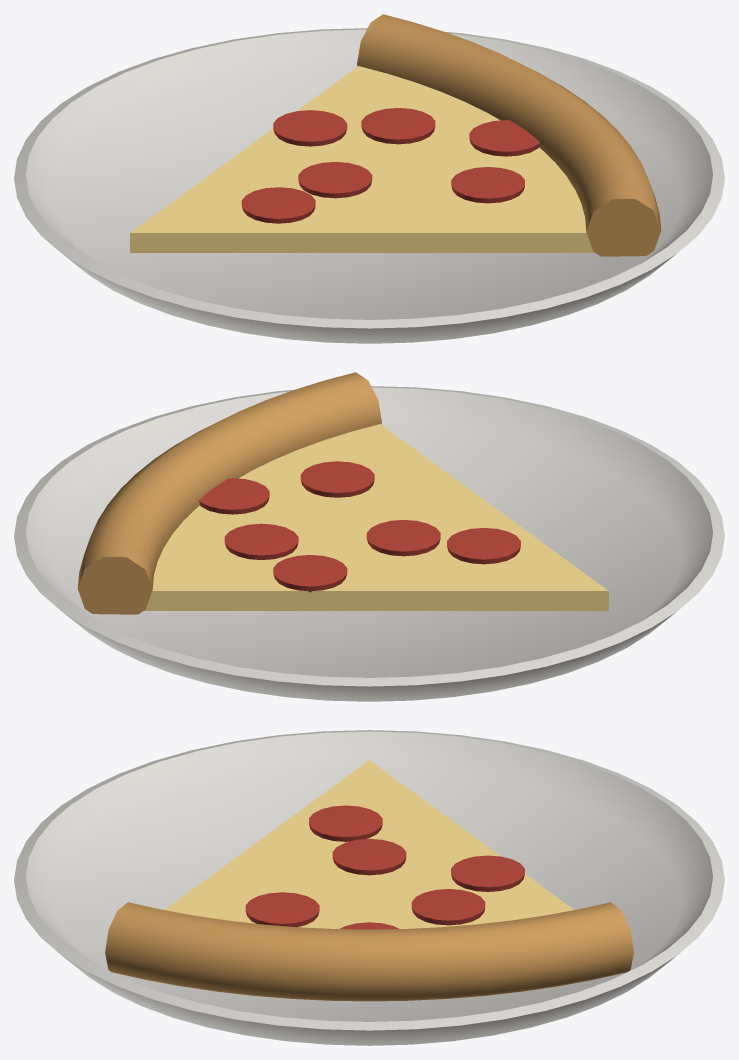
File: food_pizza.glb
The picture shows the model from 3 angles, top to bottom: view 1: azimuth 30°, elevation 25°; view 2: azimuth 150°, elevation 25°; view 3: azimuth 270°, elevation 25°; orthographic projection.
Parts seen in each view (by area): view 1: Plate_LOD0, Slice_LOD0, Crust_LOD0, Pepperoni_LOD0.003, Pepperoni_LOD0.005, Pepperoni_LOD0, Pepperoni_LOD0.001, Pepperoni_LOD0.002, Pepperoni_LOD0.004; view 2: Plate_LOD0, Slice_LOD0, Crust_LOD0, Pepperoni_LOD0.002, Pepperoni_LOD0.005, Pepperoni_LOD0, Pepperoni_LOD0.001, Pepperoni_LOD0.003, Pepperoni_LOD0.004; view 3: Plate_LOD0, Crust_LOD0, Slice_LOD0, Pepperoni_LOD0, Pepperoni_LOD0.001, Pepperoni_LOD0.005, Pepperoni_LOD0.003, Pepperoni_LOD0.002.
Boxes of the visible parts, x1,y1,x2,y2 form: Plate_LOD0: (14, 28, 724, 343); Slice_LOD0: (130, 66, 594, 252); Crust_LOD0: (357, 14, 661, 256); Pepperoni_LOD0.003: (241, 187, 315, 223); Pepperoni_LOD0.005: (273, 110, 347, 146); Pepperoni_LOD0: (298, 162, 372, 198); Pepperoni_LOD0.001: (361, 108, 435, 144); Pepperoni_LOD0.002: (451, 167, 524, 203); Pepperoni_LOD0.004: (469, 120, 539, 156); Plate_LOD0: (14, 386, 724, 701); Slice_LOD0: (144, 424, 608, 610); Crust_LOD0: (77, 372, 381, 614); Pepperoni_LOD0.002: (300, 461, 374, 497); Pepperoni_LOD0.005: (273, 555, 347, 592); Pepperoni_LOD0: (366, 520, 440, 556); Pepperoni_LOD0.001: (224, 523, 298, 559); Pepperoni_LOD0.003: (447, 528, 520, 564); Pepperoni_LOD0.004: (199, 478, 269, 514); Plate_LOD0: (14, 730, 724, 1045); Crust_LOD0: (105, 902, 633, 1001); Slice_LOD0: (165, 760, 573, 928); Pepperoni_LOD0: (332, 839, 406, 875); Pepperoni_LOD0.001: (411, 889, 485, 925); Pepperoni_LOD0.005: (451, 855, 524, 891); Pepperoni_LOD0.003: (309, 805, 382, 841); Pepperoni_LOD0.002: (245, 892, 319, 927).
Bounding box in the file's own units: 0.18 × 0.0185 × 0.18.
